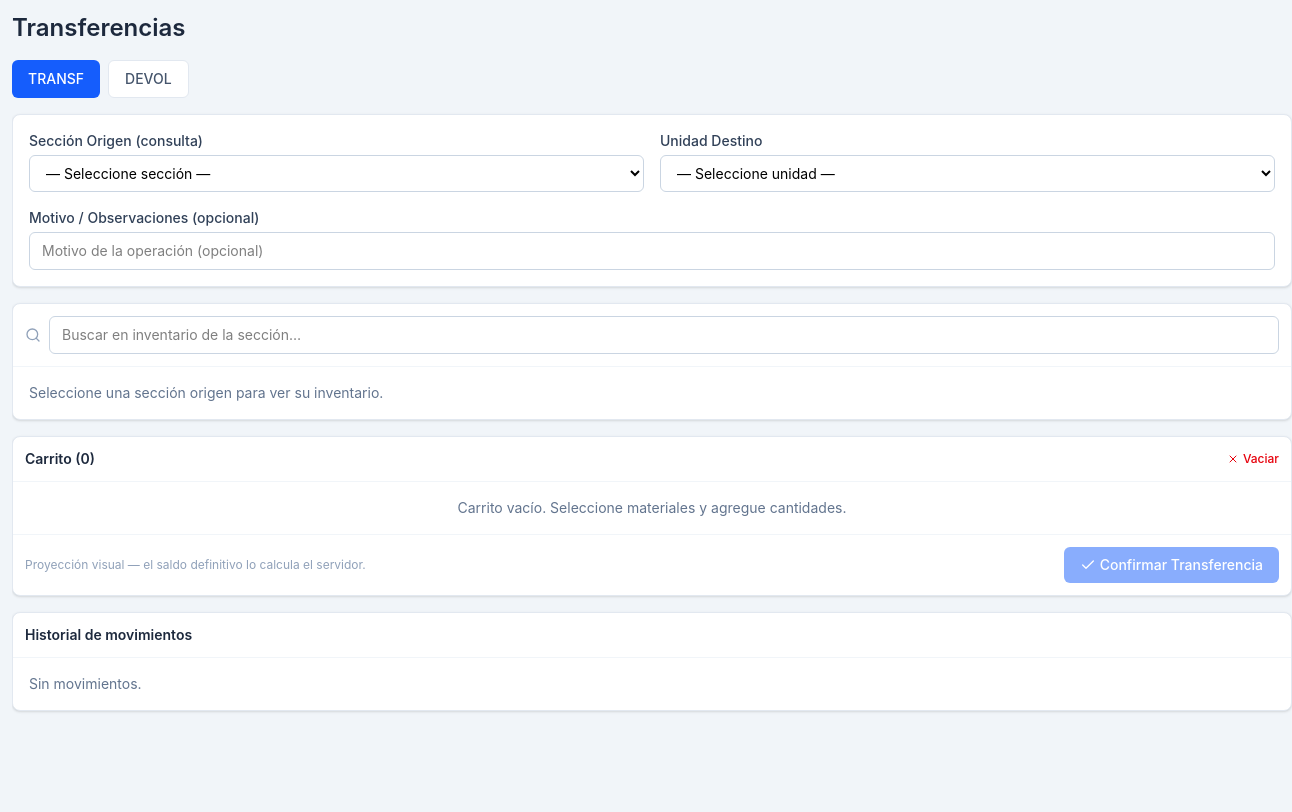
Test case: Transferencias — Inventario FO único (REQ-TRF-001/002) › direcciona la consulta de inventario de origen a /fibra (sin módulo) al elegir el Inventario FO
Select "Inventario FO" in the dropdown below "Sección Origen (consulta)" at coordinates (336, 174), box [29,155,644,192]
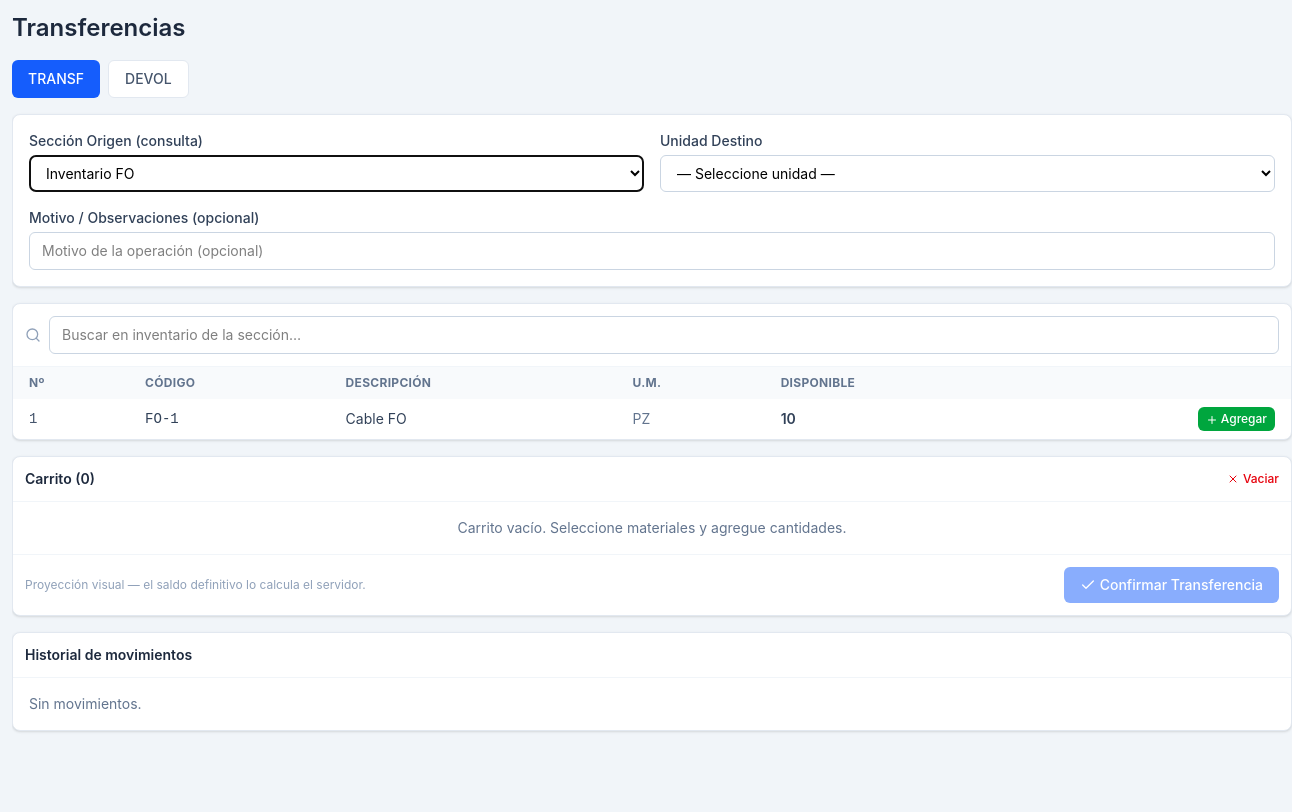
Expected: the text "Cable FO" is shown, [330,399,616,439]
